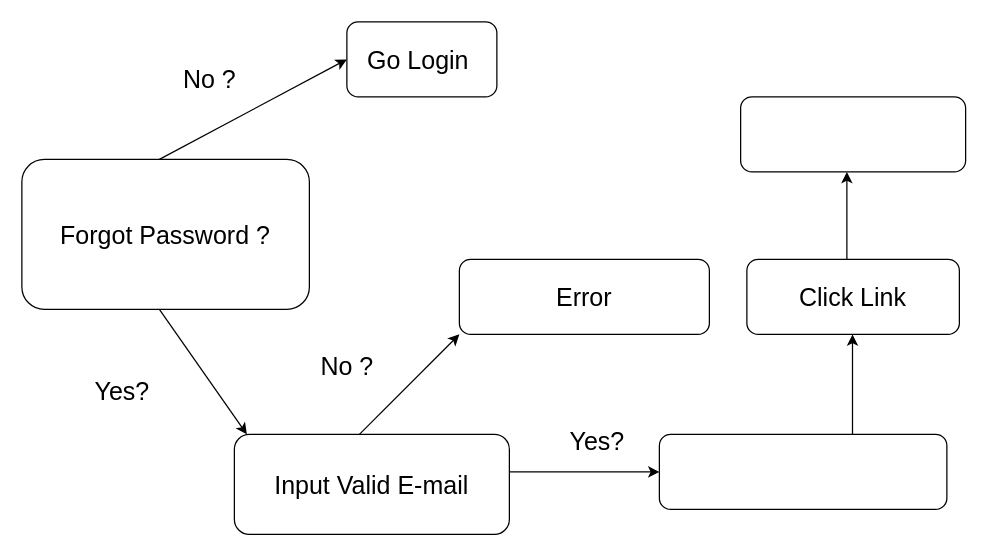
Image size: 988x556. Some labels were removed from this diagram. The centre of each missing label's shape, as x and y in pixels:
"Sending Link to E-mail" goes at (802,471).
"Type New Password" goes at (852,134).
